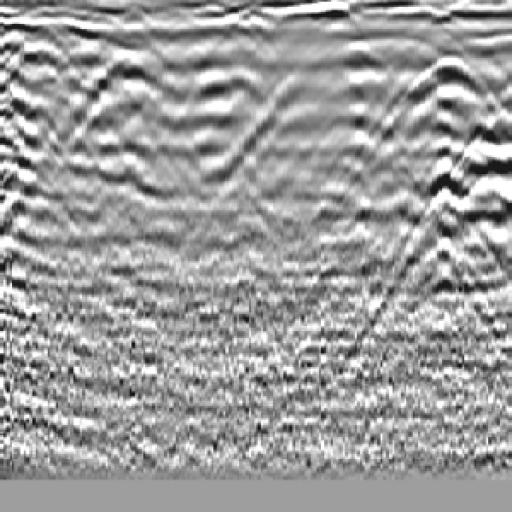non-metallic: (15, 30, 257, 247), (355, 28, 512, 284)
